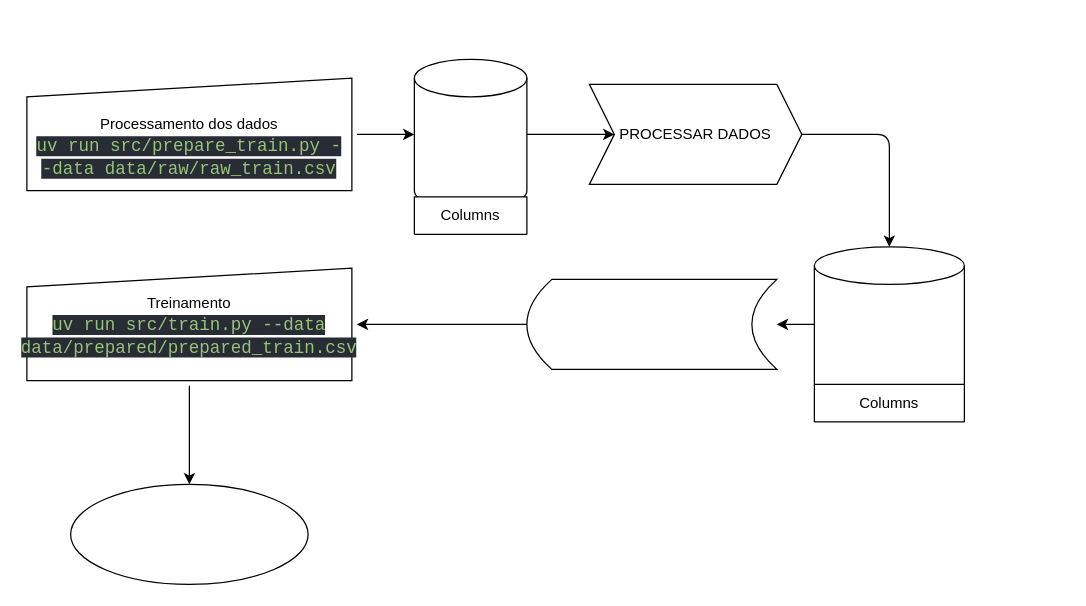
Image size: 1086x606. Some labels were removed from this diagram. Each missing label, with the box of its shape:
PREPARED_TRAIN: (813, 246, 964, 402)
RAW_TRAIN: (413, 58, 527, 209)
Save In data/prepared/ prepared_train.csv: (526, 278, 777, 369)
